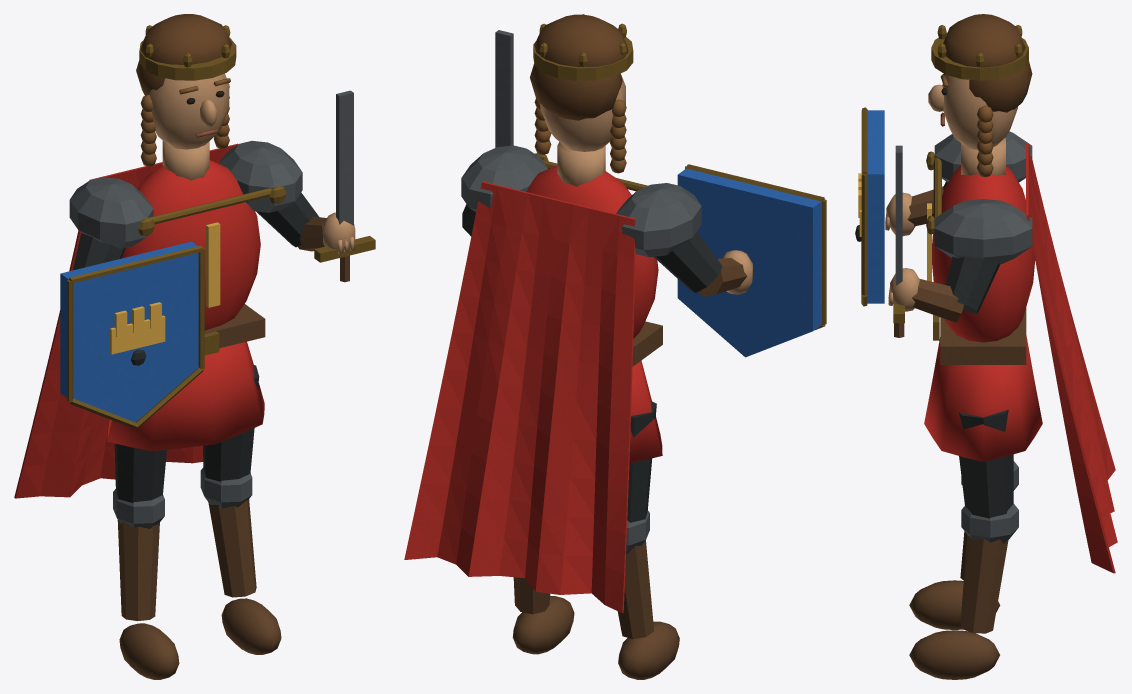
Rendered from SM_HeroinaSoberana_A_LOD0.fbx.
3 renders of one model, left to right at view 1: azimuth 30°, elevation 25°; view 2: azimuth 150°, elevation 25°; view 3: azimuth 270°, elevation 25°, orthographic. The views are drawn at different scales.
Parts seen in each view (by area): view 1: SM_HeroinaSoberana_A_LOD0; view 2: SM_HeroinaSoberana_A_LOD0; view 3: SM_HeroinaSoberana_A_LOD0.
Part boxes in pixels (x1,y1,x2,y2): SM_HeroinaSoberana_A_LOD0: (14,14,375,679); SM_HeroinaSoberana_A_LOD0: (404,14,826,679); SM_HeroinaSoberana_A_LOD0: (855,14,1117,679).
Bounding box in the file's own units: 0.2206 × 0.414 × 0.1558.
Materials: 1 (1 with a texture image).
